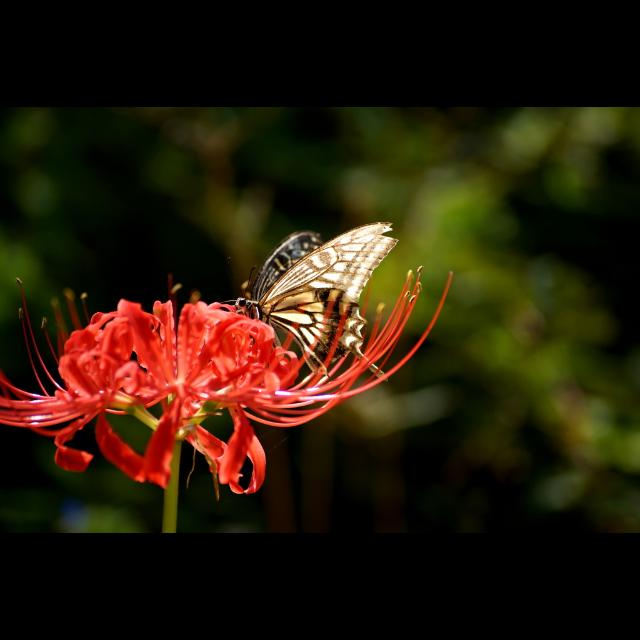Flower: (18, 286, 304, 486)
